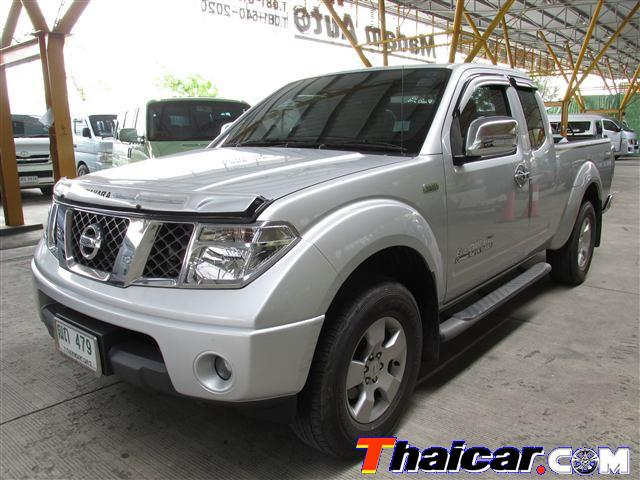pickup: (27, 62, 616, 432)
